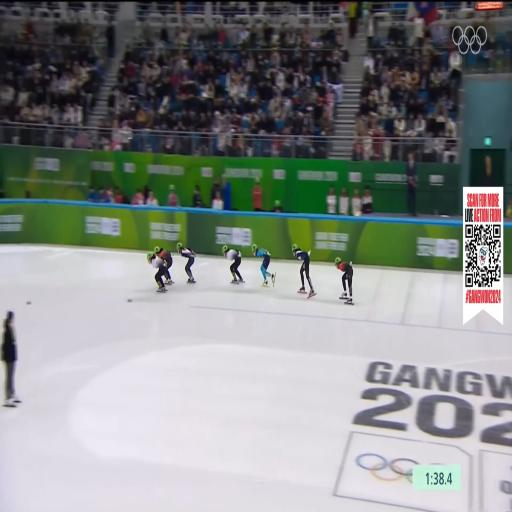Skater: (292, 245, 316, 298), (252, 244, 275, 287), (335, 258, 353, 304), (222, 246, 244, 283), (147, 253, 167, 292), (177, 243, 195, 283), (154, 247, 173, 284)
